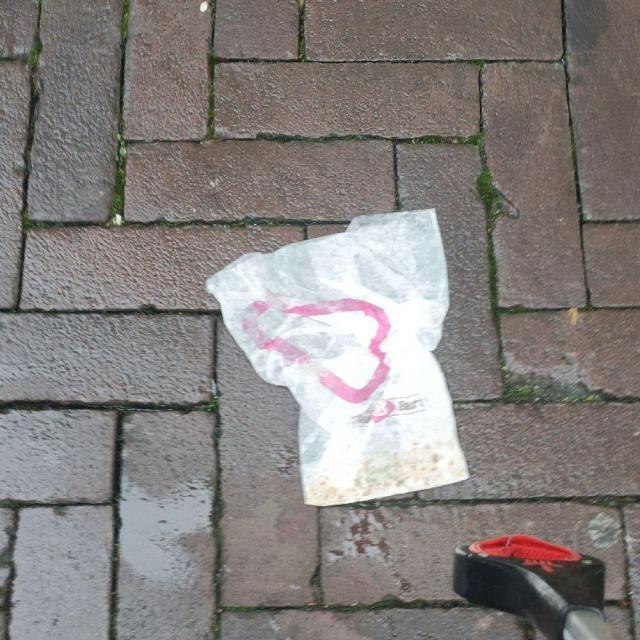Paper: (202, 206, 474, 510)
